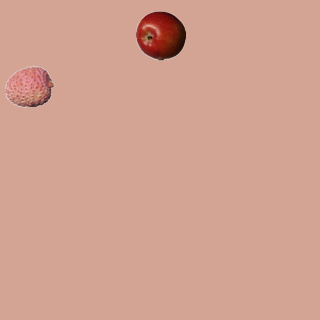Apple Braeburn: (135, 10, 185, 60)
Lychee: (4, 61, 54, 111)
